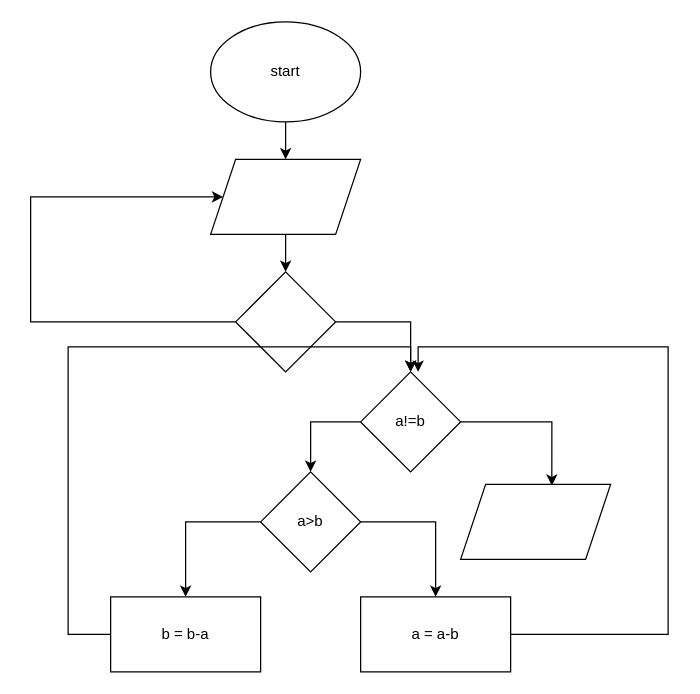
The diagram is 700 pixels wide and 694 high, and some of its shapes have lost their labels. Here are the shapes that lost their labels. From the top down, the box of each, then its label:
(209, 158, 361, 234): podaj a,b
(234, 271, 336, 372): a>0 && b>0
(459, 483, 611, 559): wypisz a
